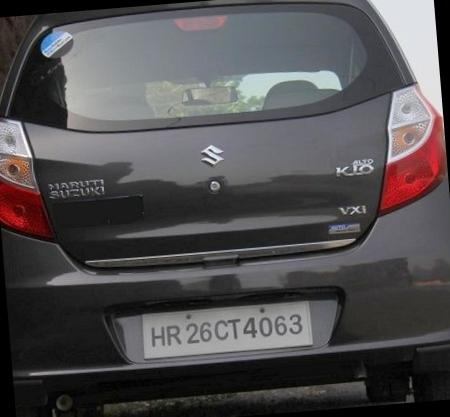plate: (133, 282, 321, 373)
